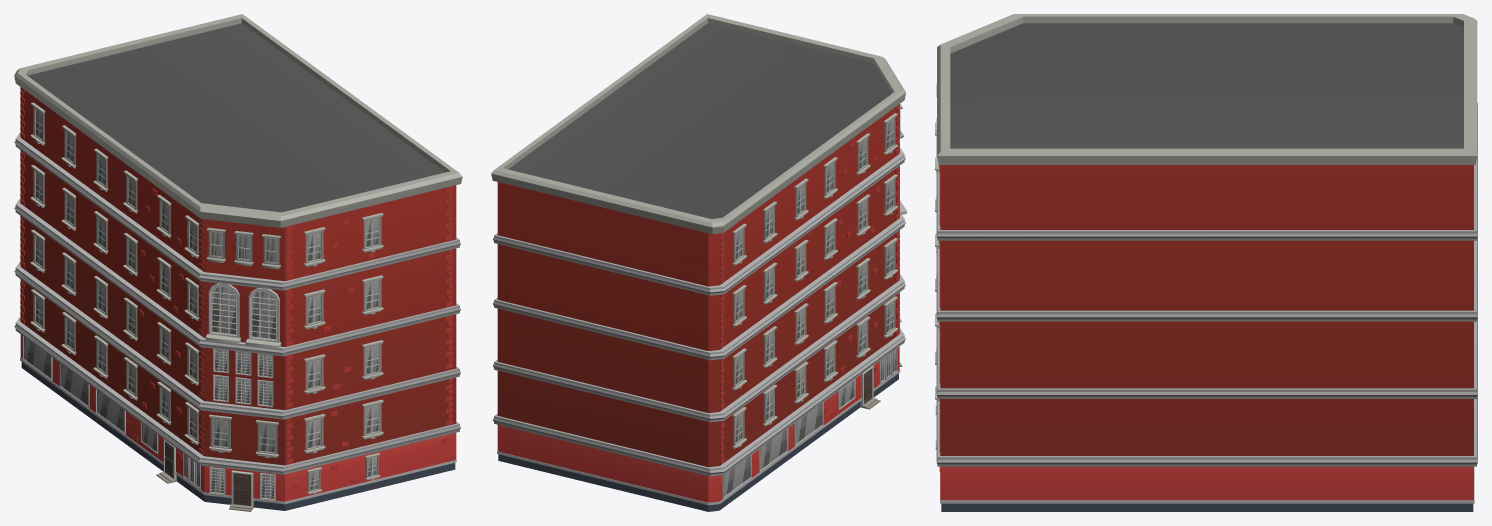
The model's file is Building_25_8_A.fbx.
3 renders of one model, left to right at view 1: azimuth 30°, elevation 25°; view 2: azimuth 150°, elevation 25°; view 3: azimuth 270°, elevation 25°, orthographic. The views are drawn at different scales.
Visible parts, largest first — view 1: Building_25_8_A; view 2: Building_25_8_A; view 3: Building_25_8_A.
Part boxes in pixels (box(x1,y1,x2,y2)): Building_25_8_A: box(14, 14, 462, 511); Building_25_8_A: box(491, 14, 906, 511); Building_25_8_A: box(935, 14, 1477, 511).
Bounding box in the file's own units: 1683 × 2014 × 2729.
